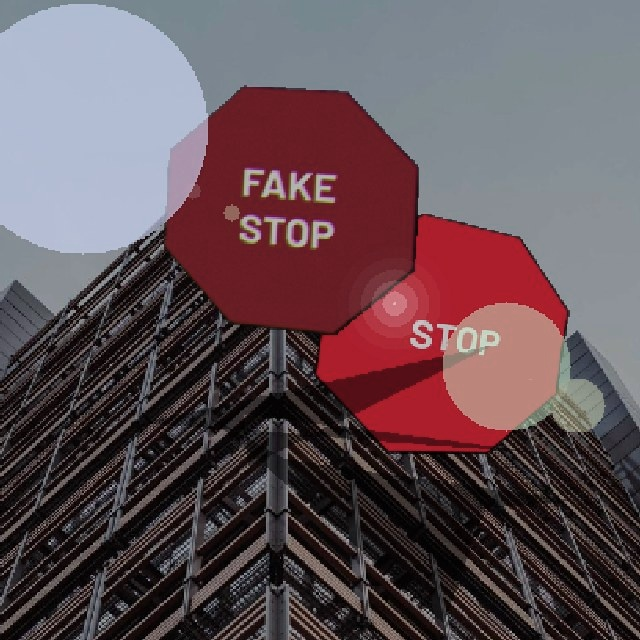FAKE_STOP: (162, 84, 418, 334)
STOP: (312, 211, 568, 453)
